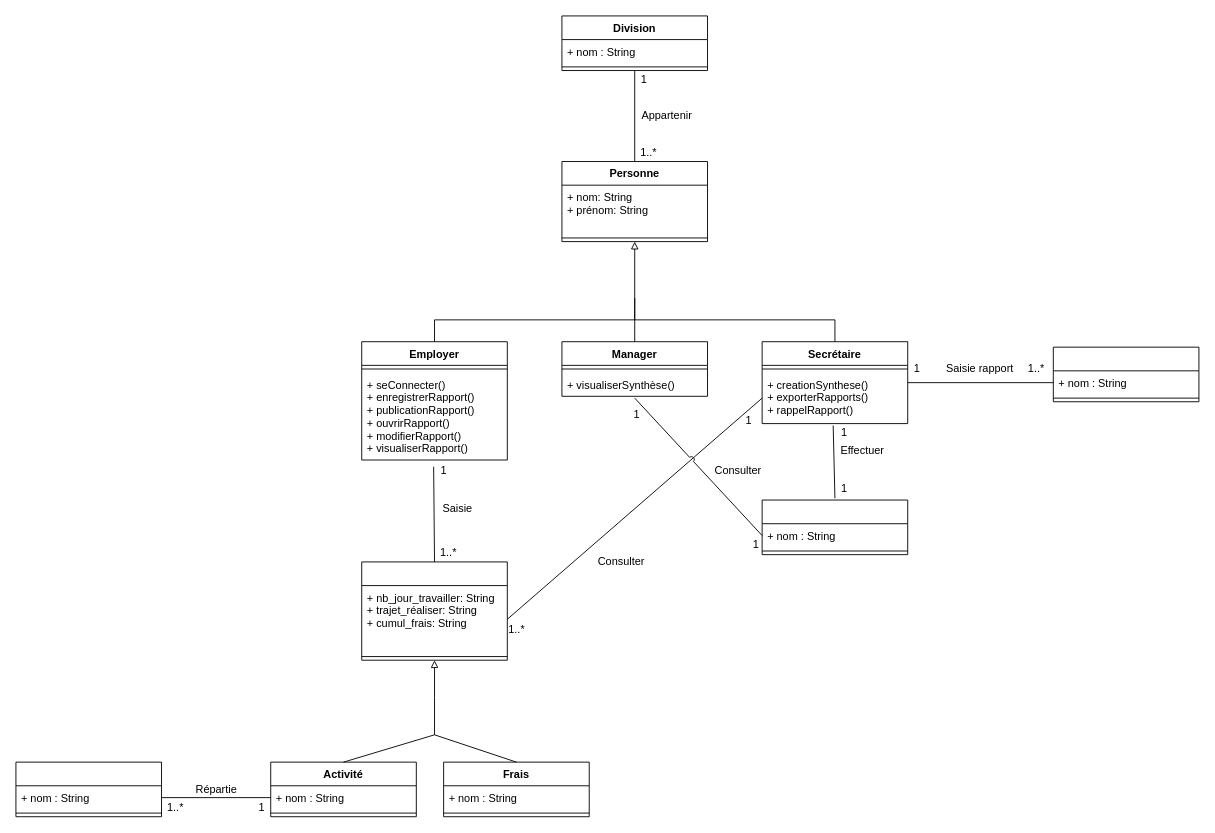
The diagram is 1215 pixels wide and 833 high, and some of its shapes have lost their labels. The shapes that lost their labels are listed below. From the top down, each one's box as (x1, y1, x2, y2) in pixels, then its label:
(1052, 346, 1199, 402): Système de facturation
(761, 499, 908, 555): Synthèse
(361, 561, 507, 660): Rapport
(15, 761, 162, 817): Projet
